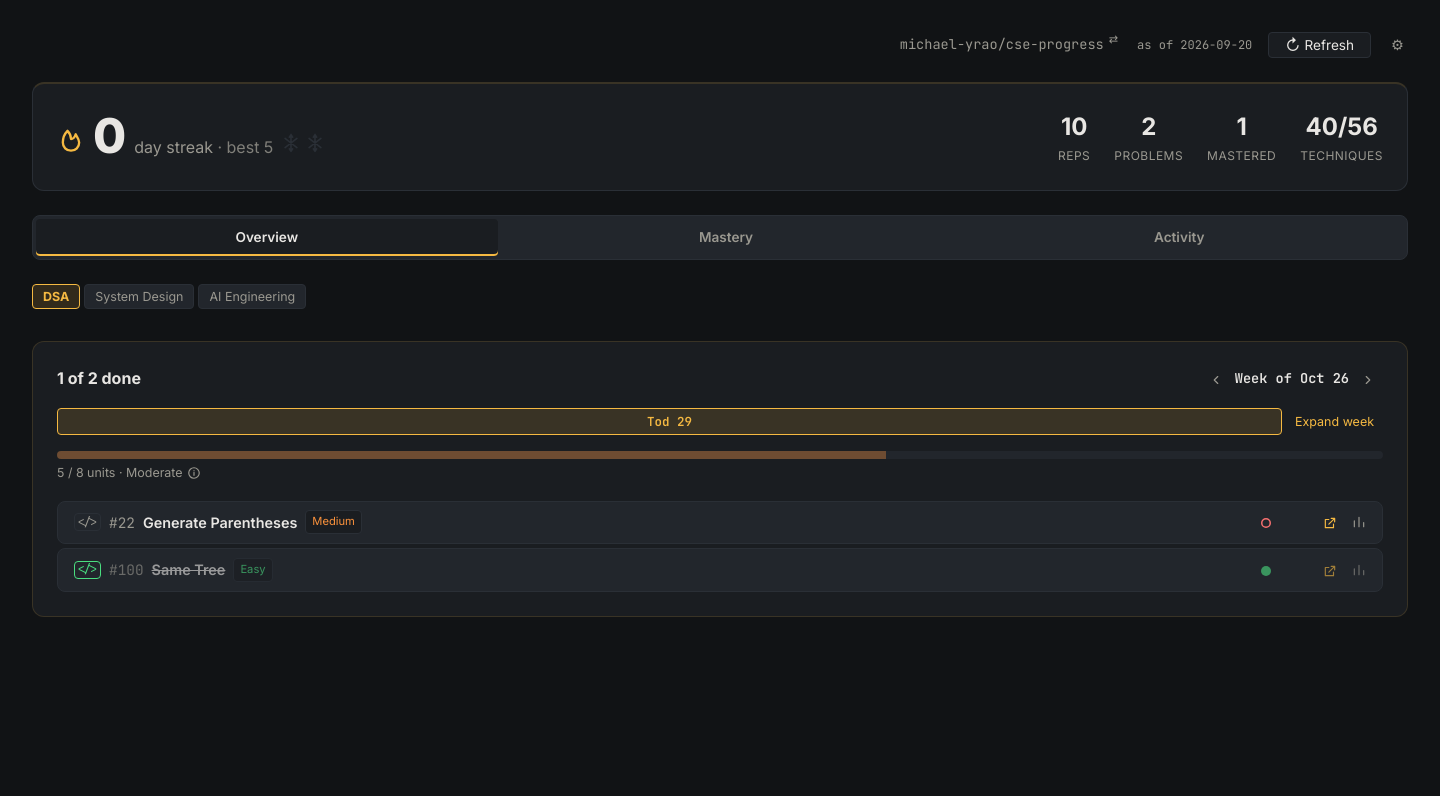
ProgressPageComponent › opening Settings and choosing GitHub renders the GitHub link instead of the walkthrough link for a Problems-tab row with a registered route, a file, and a repo
The width and height of the screenshot is (1440, 796).
Click the tab with id "tab-activity" at (1179, 238), box [954,219,1404,256]
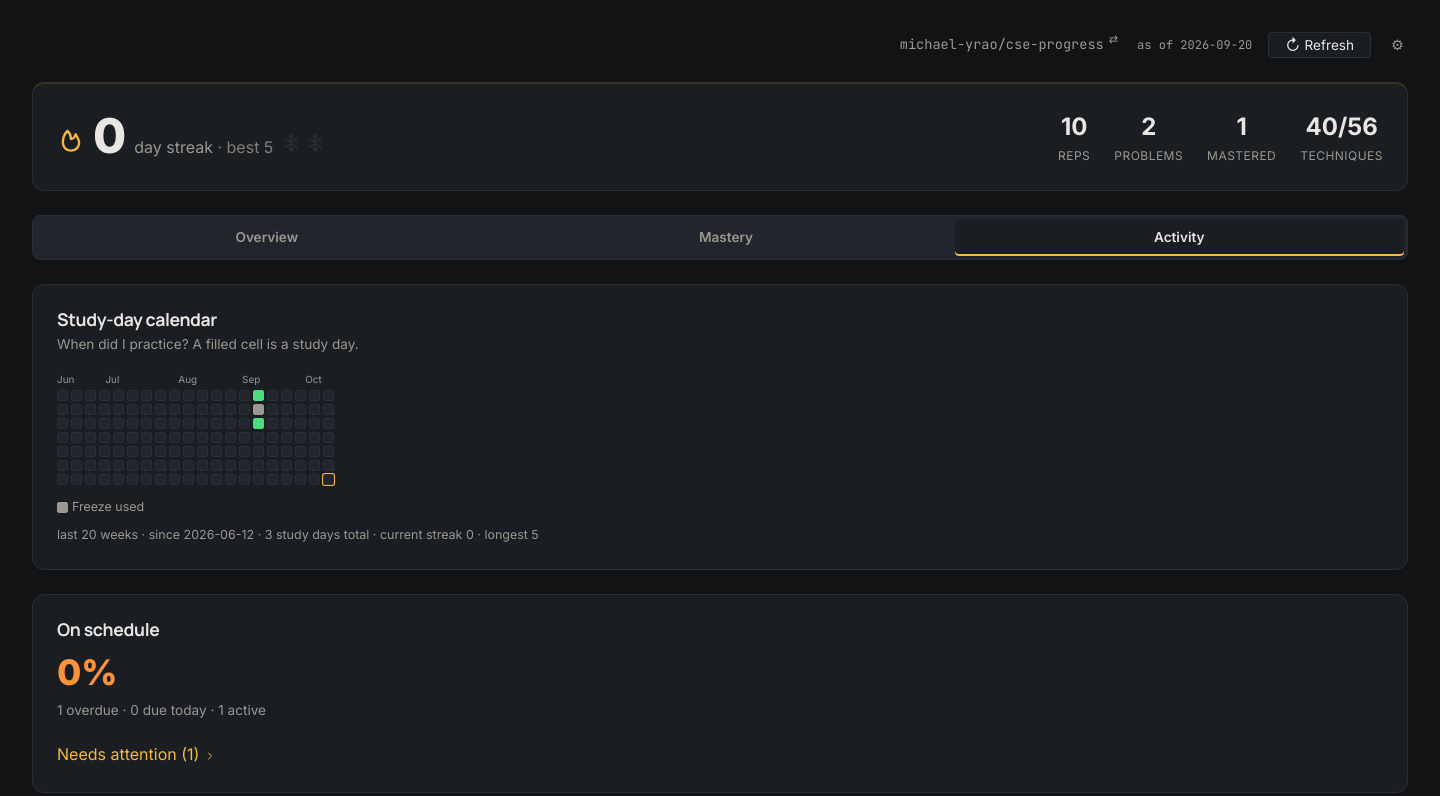
Click the button with class "gauge__drill" at (136, 755), box [57,742,216,768]
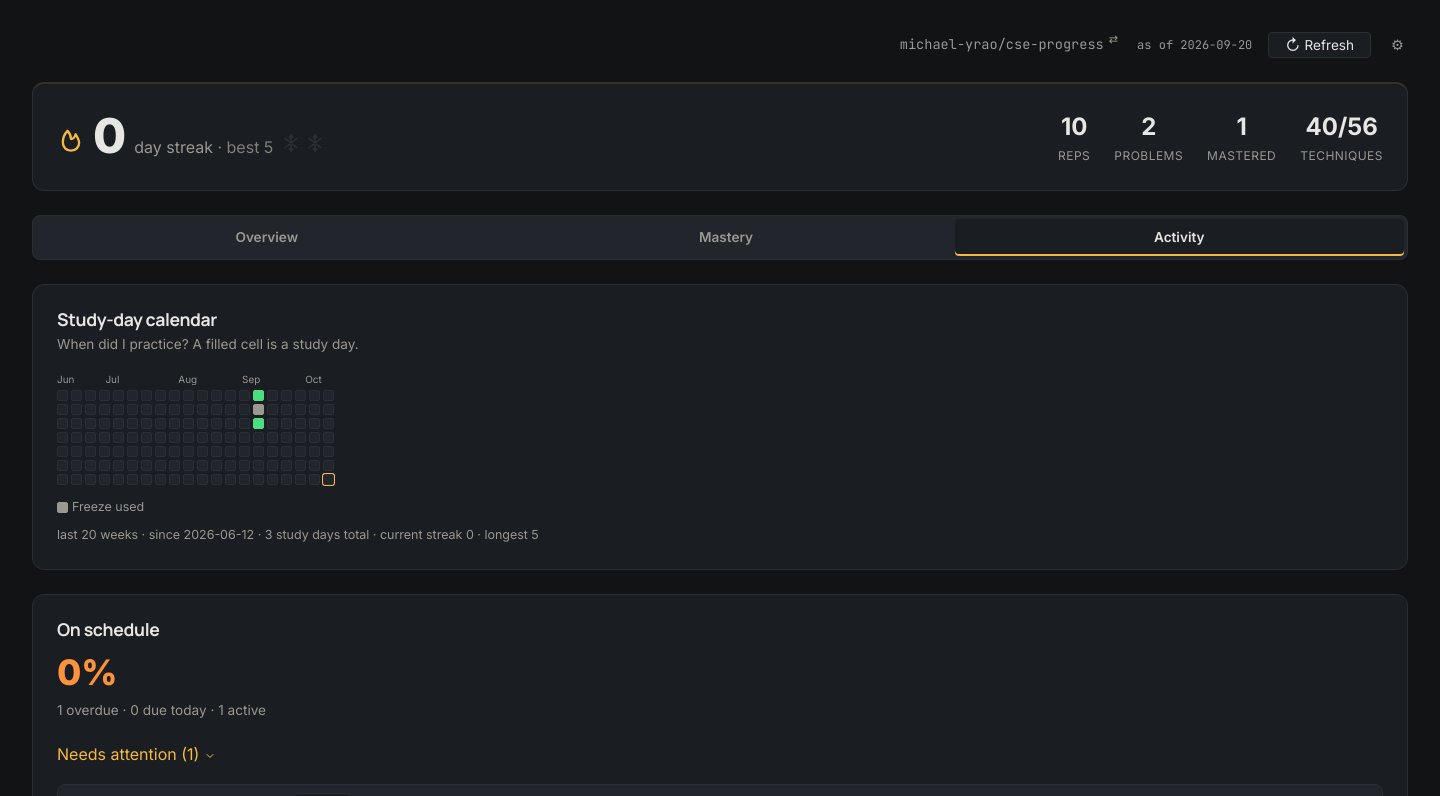
Click the button with class "settings-menu__btn" at (1398, 45), box [1387,36,1408,55]
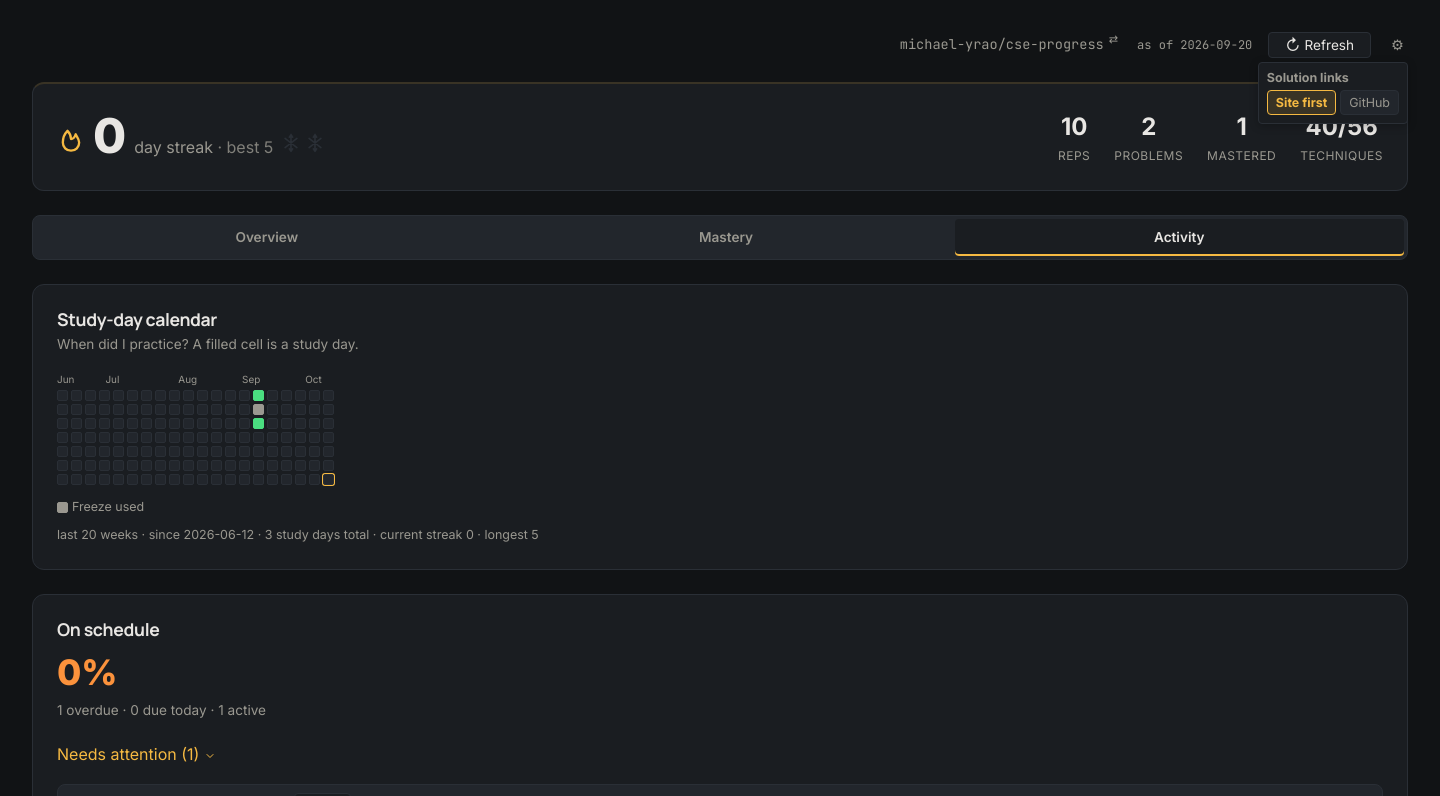
Click the button with class "settings-menu__option" showing "GitHub" at (1370, 102), box [1340,90,1399,115]
(page scrolled)
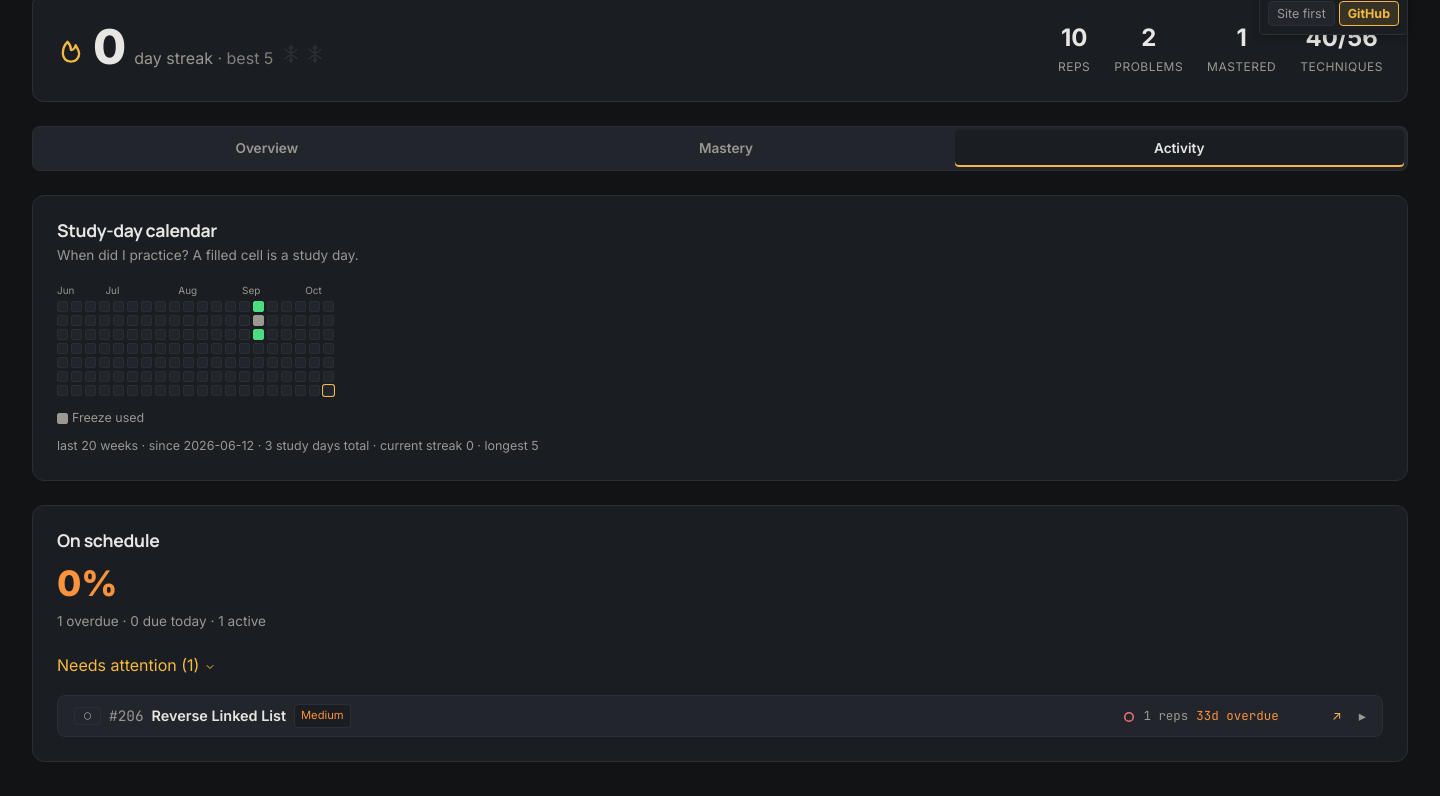
Expected: the link "○" is shown, [74,707,101,725]
